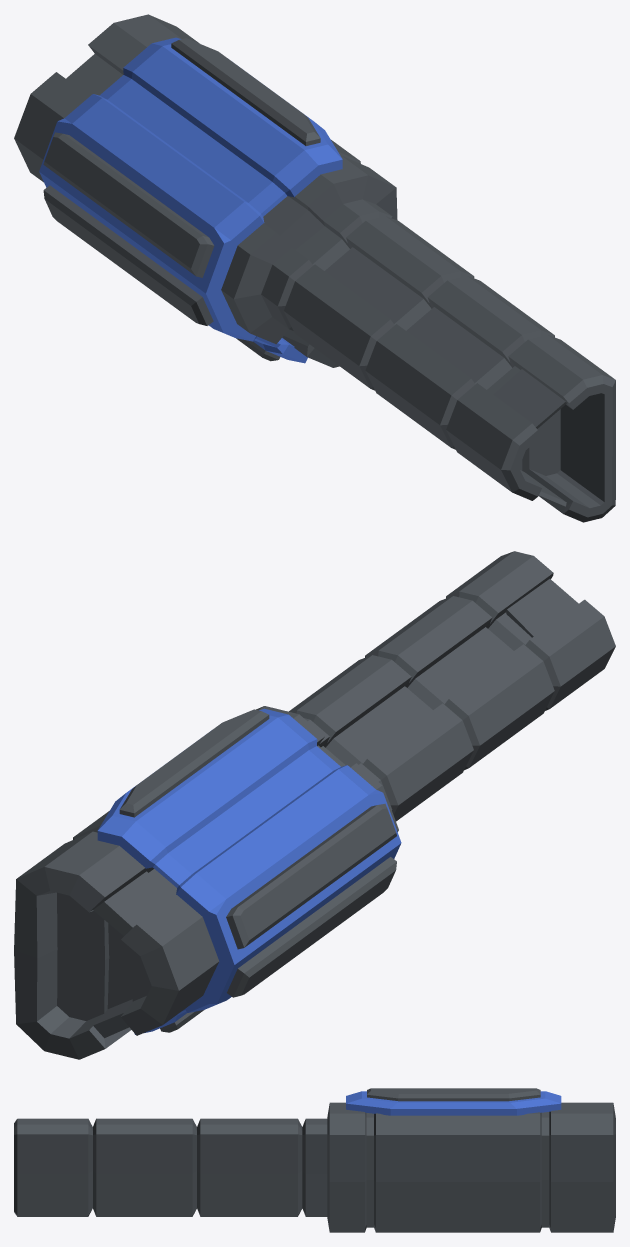
File: Fighter_10_Thruster_Right_Blue.fbx
3 views of the same model, one above another, from view 1: azimuth 30°, elevation 25°; view 2: azimuth 150°, elevation 25°; view 3: azimuth 270°, elevation 25° (orthographic). The views are drawn at different scales.
Parts seen in each view (by area): view 1: Fighter_10_Thruster_Right_Blue; view 2: Fighter_10_Thruster_Right_Blue; view 3: Fighter_10_Thruster_Right_Blue.
Boxes of the visible parts, <box> form: Fighter_10_Thruster_Right_Blue: <box>14,14,615,522</box>; Fighter_10_Thruster_Right_Blue: <box>14,551,615,1059</box>; Fighter_10_Thruster_Right_Blue: <box>14,1088,615,1232</box>.
Bounding box in the file's own units: 311 × 362 × 1360.
2 materials, 2 textured.
